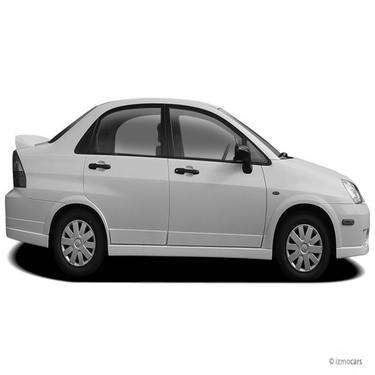car: (1, 87, 373, 289)
